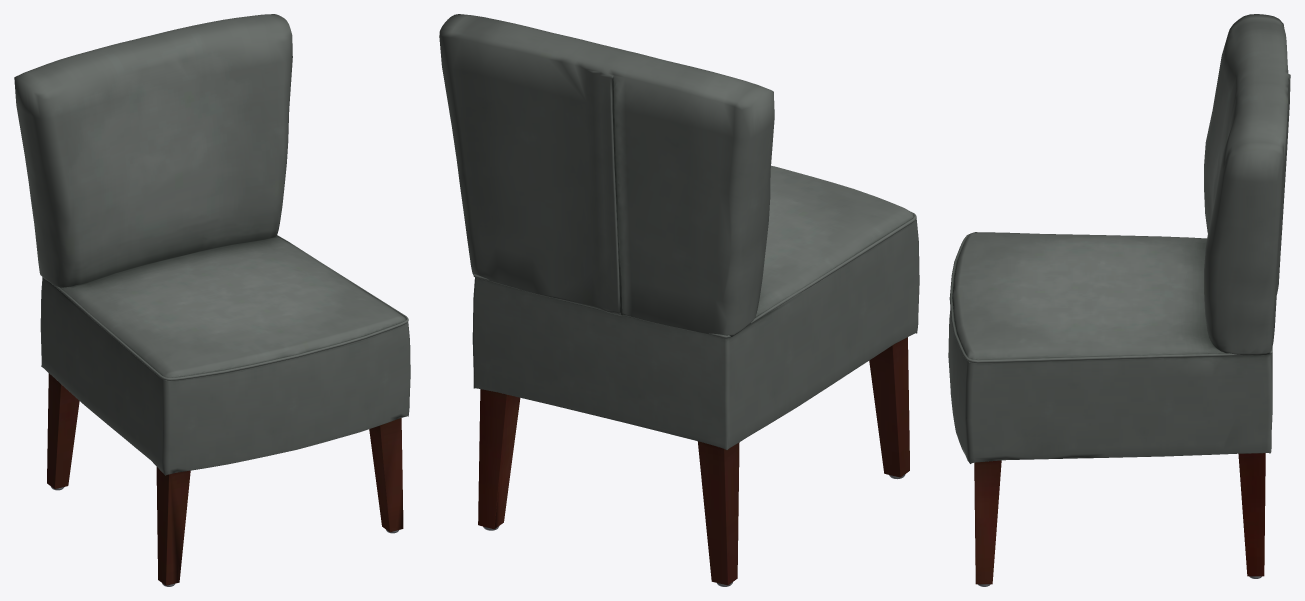
File: B072PZJZY3.glb
3 renders of one model, left to right at view 1: azimuth 30°, elevation 25°; view 2: azimuth 150°, elevation 25°; view 3: azimuth 270°, elevation 25°, orthographic. The views are drawn at different scales.
Parts seen in each view (by area): view 1: RootNode; view 2: RootNode; view 3: RootNode.
Part boxes in pixels (x1,y1,x2,y2): RootNode: (14,14,410,586); RootNode: (439,14,919,586); RootNode: (948,14,1290,586).
Size of the model in its own units: 0.5215 by 0.8055 by 0.5539.
Materials: 1 (1 with a texture image).
